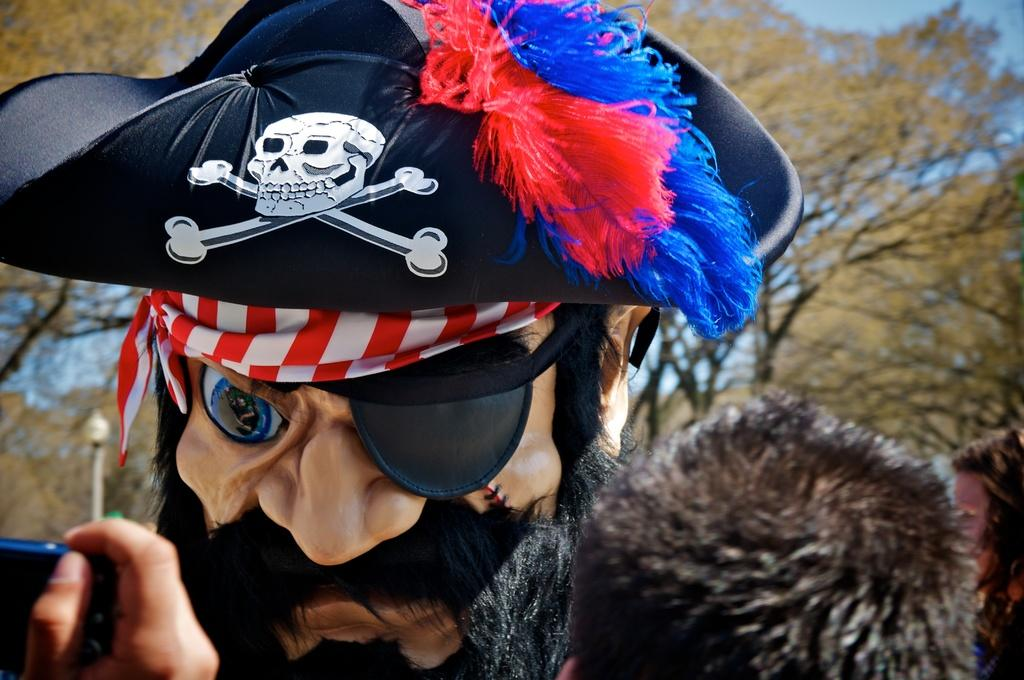Hat: (0, 0, 807, 335)
